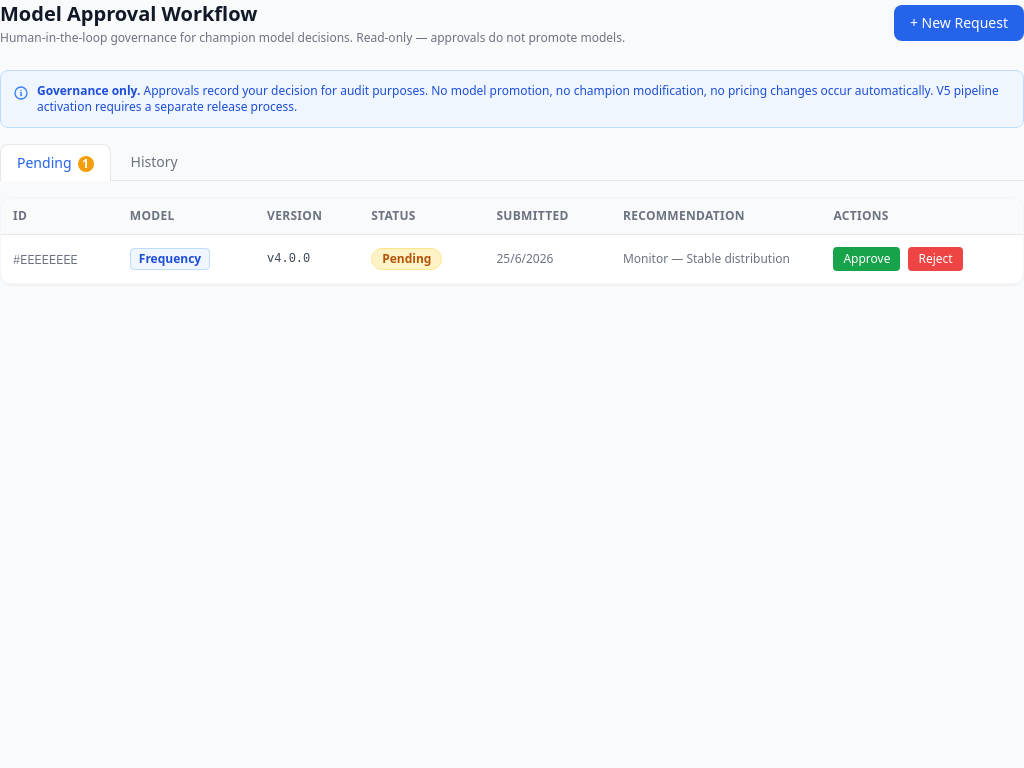
ApprovalPanel — reject flow › opens review dialog on Reject click
Click the button with test id "reject-btn" at [936, 259], box [908,247,963,271]
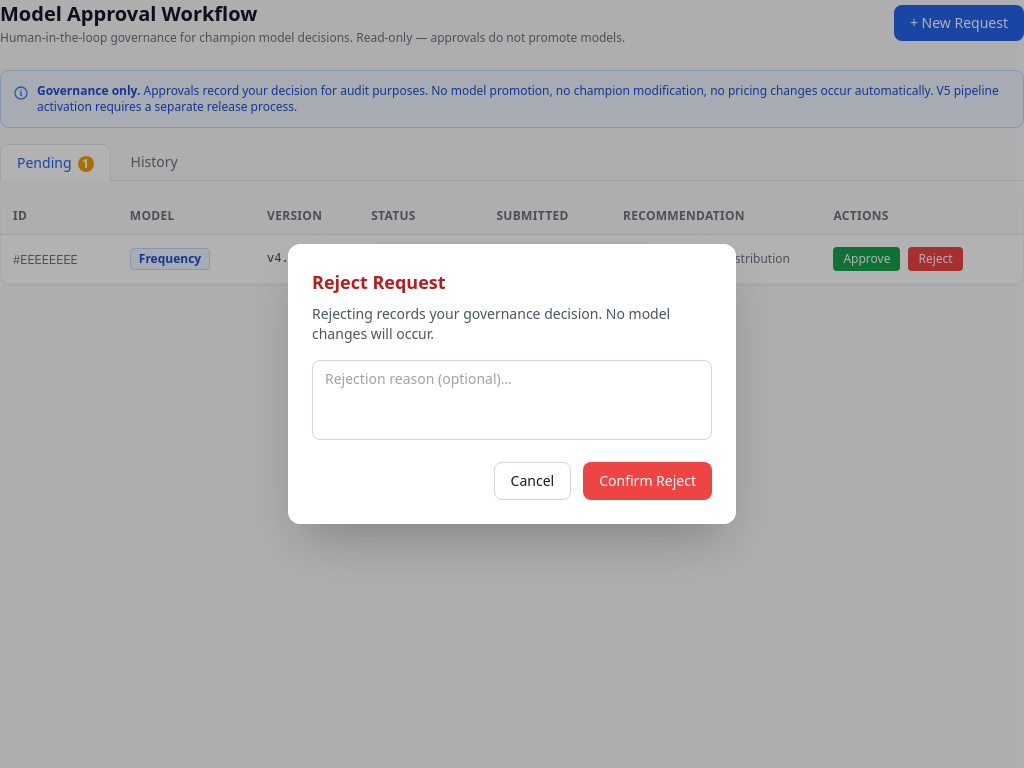
Now the element with test id "review-dialog" is shown
